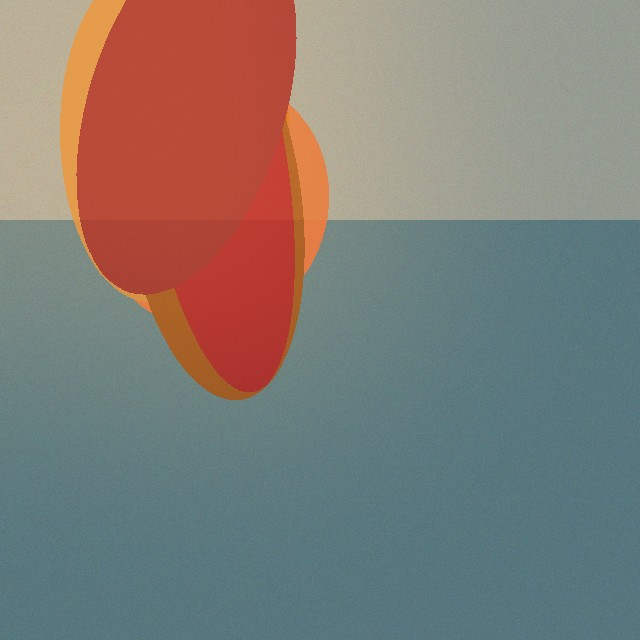fire: (53, 64, 355, 316)
